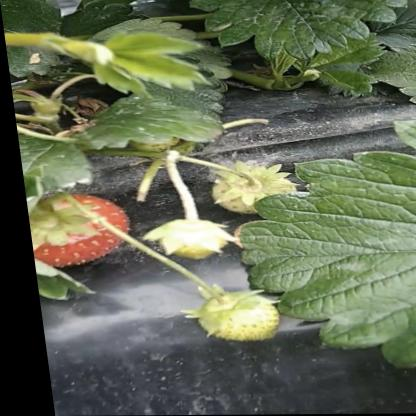ripe: (21, 193, 133, 271)
unripe: (188, 293, 282, 343), (203, 169, 293, 216), (154, 224, 224, 259)
